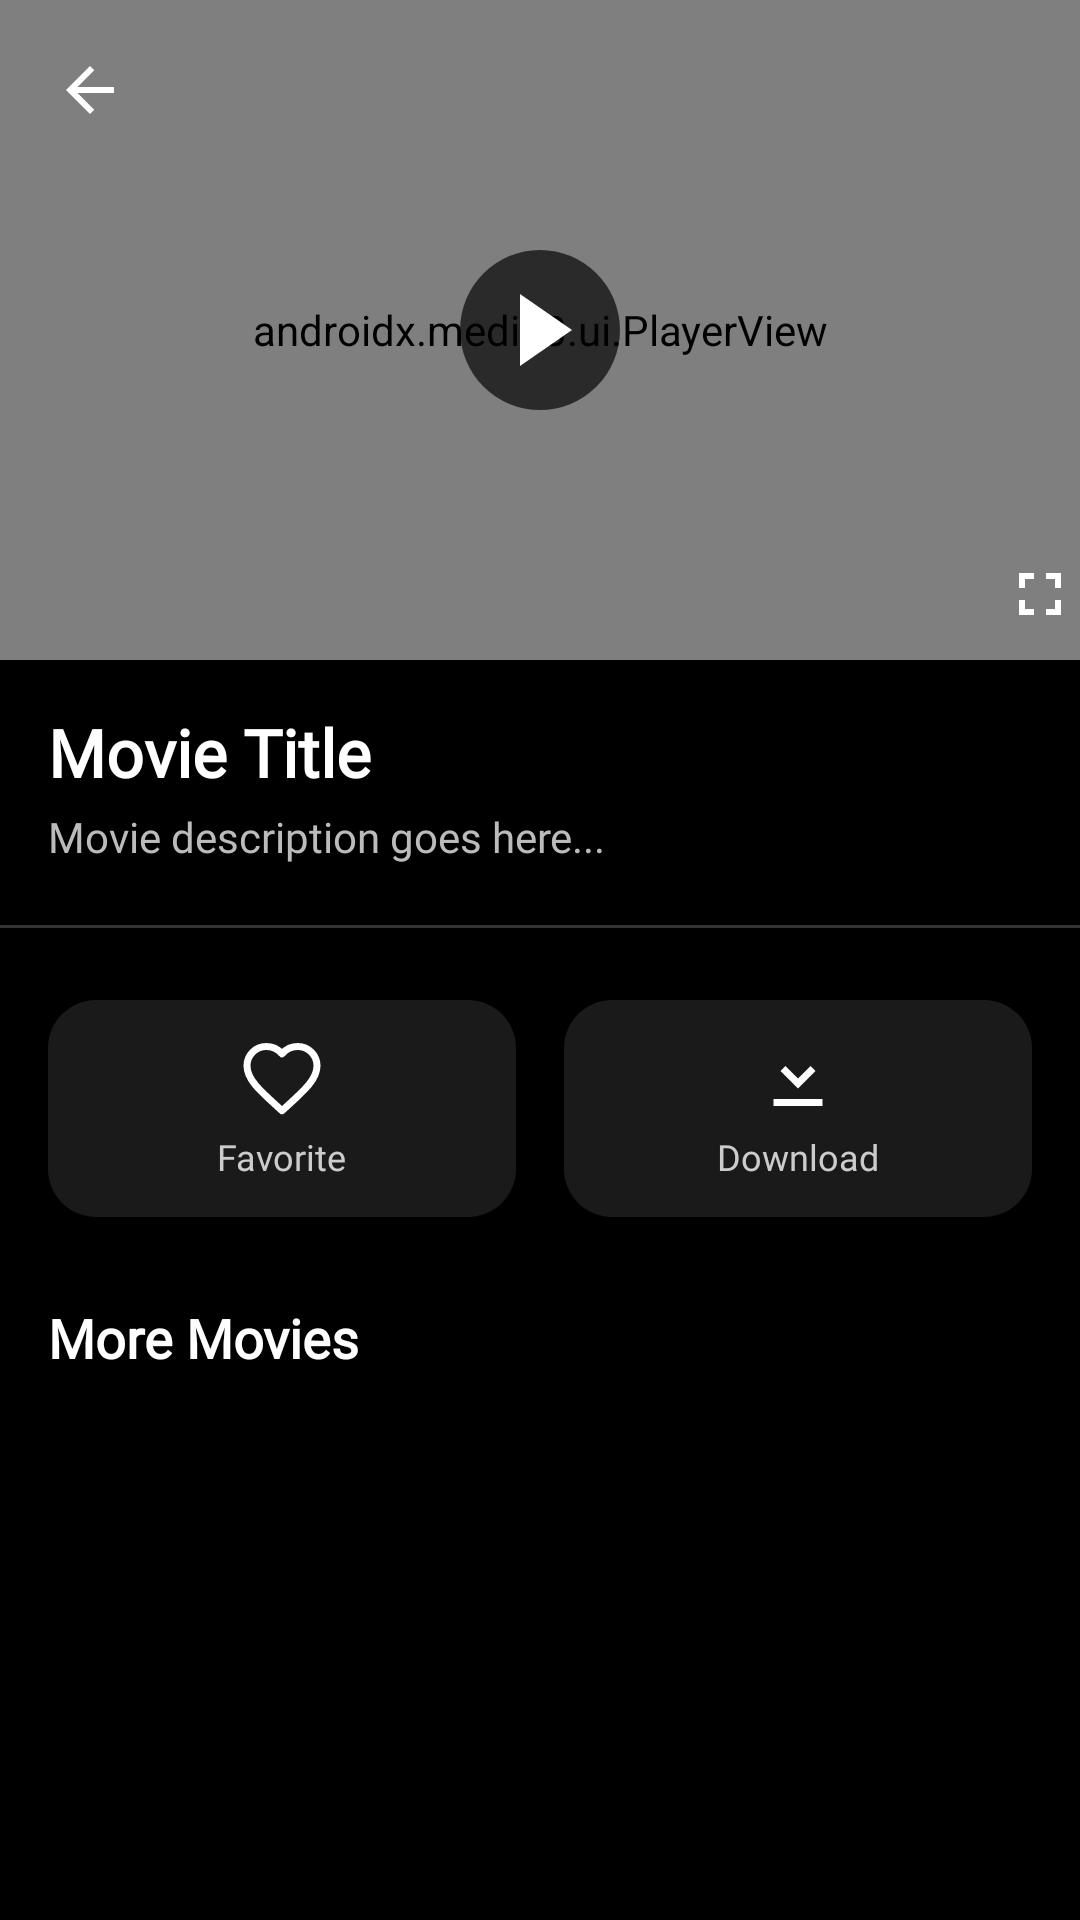

Locate icon controls on the screen. Image size 1080w x 1920h, boxes as rect(x1, y1, x2, y2).
Back: rect(66, 66, 114, 114)
